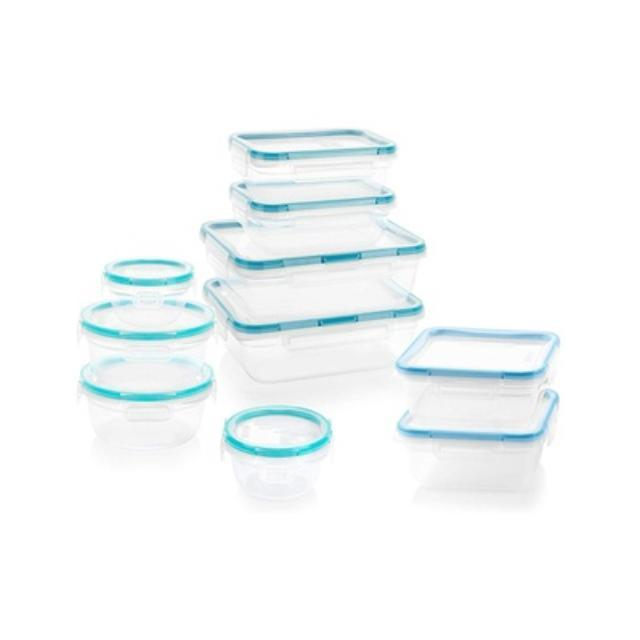plastic: (79, 129, 559, 498)
